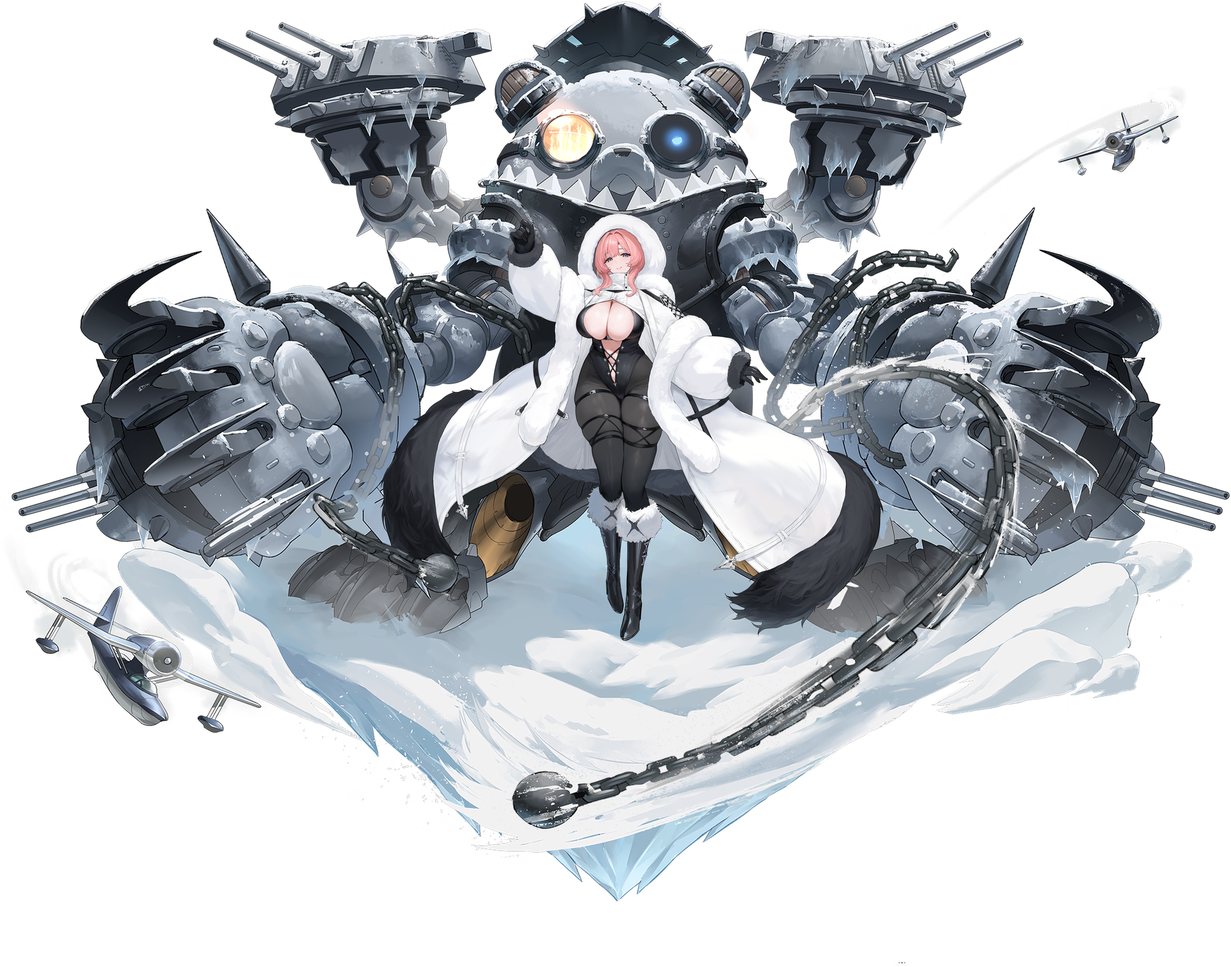person: (536, 204, 718, 668)
